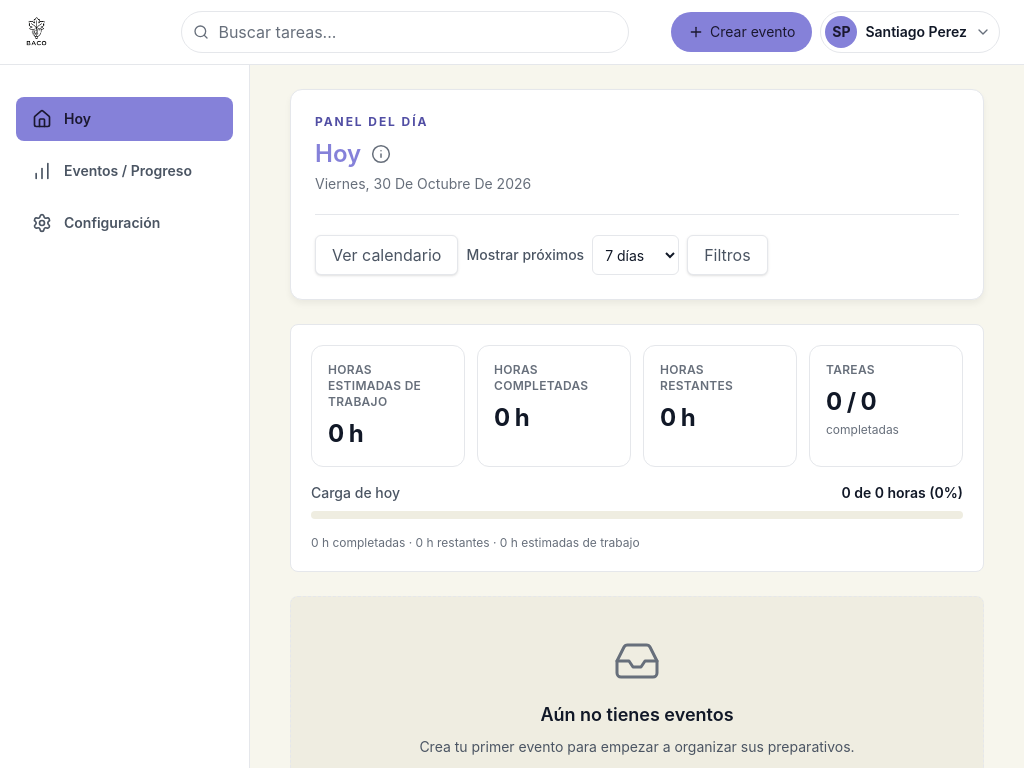
Test case: shell de la aplicación › la información y ayuda vive en el menú de perfil y expande su texto
This screenshot has width=1024, height=768.
Expected: the text "Información y ayuda" is not shown
Click the button "SP Santiago Perez" at {"x": 910, "y": 32}, box [820, 11, 1000, 53]
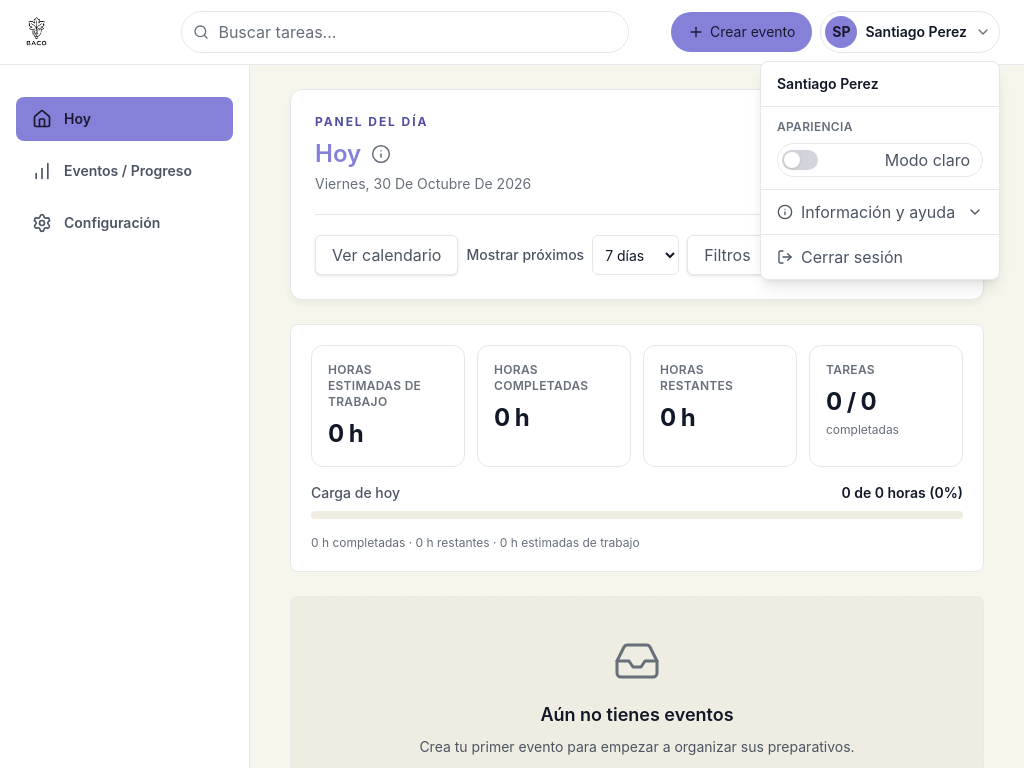
Expected: the menu item "Información y ayuda" is shown
Click the menu item "Información y ayuda" at {"x": 880, "y": 212}, box [761, 190, 999, 234]
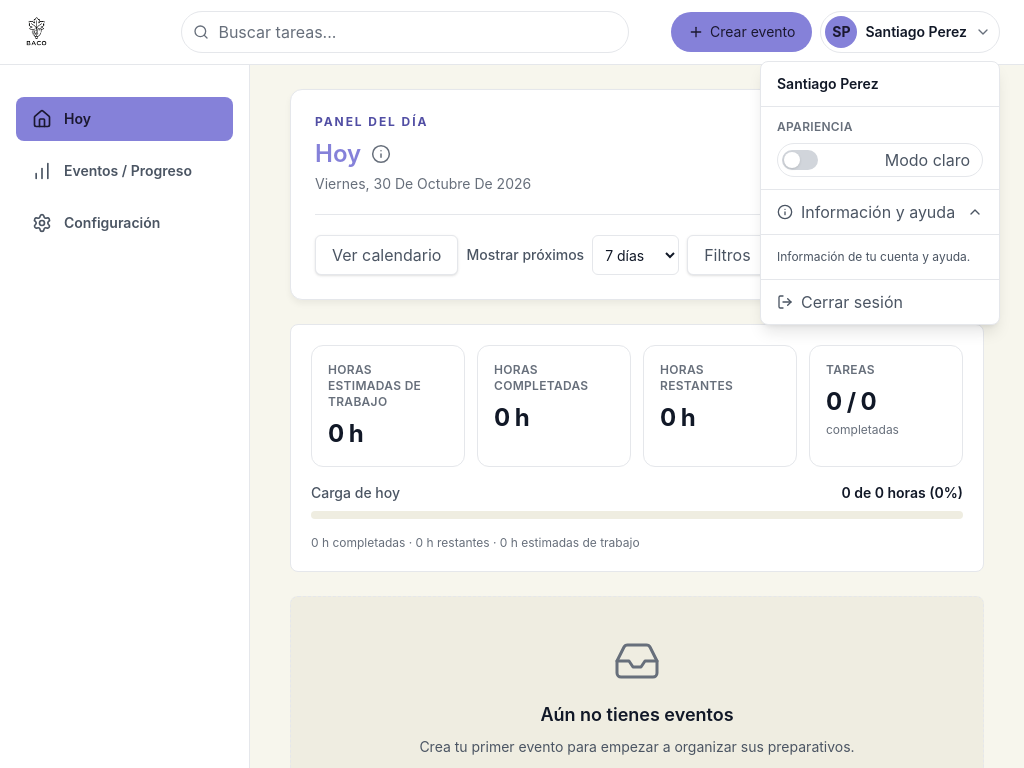
Expected: the menu shows "Información de tu cuenta y ayuda", [777, 249, 970, 264]
